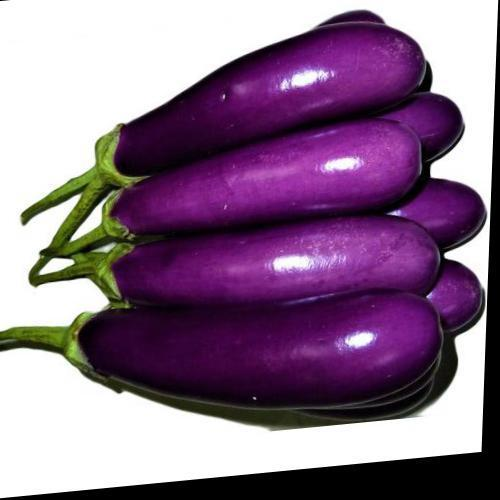eggplant: (16, 33, 450, 441)
